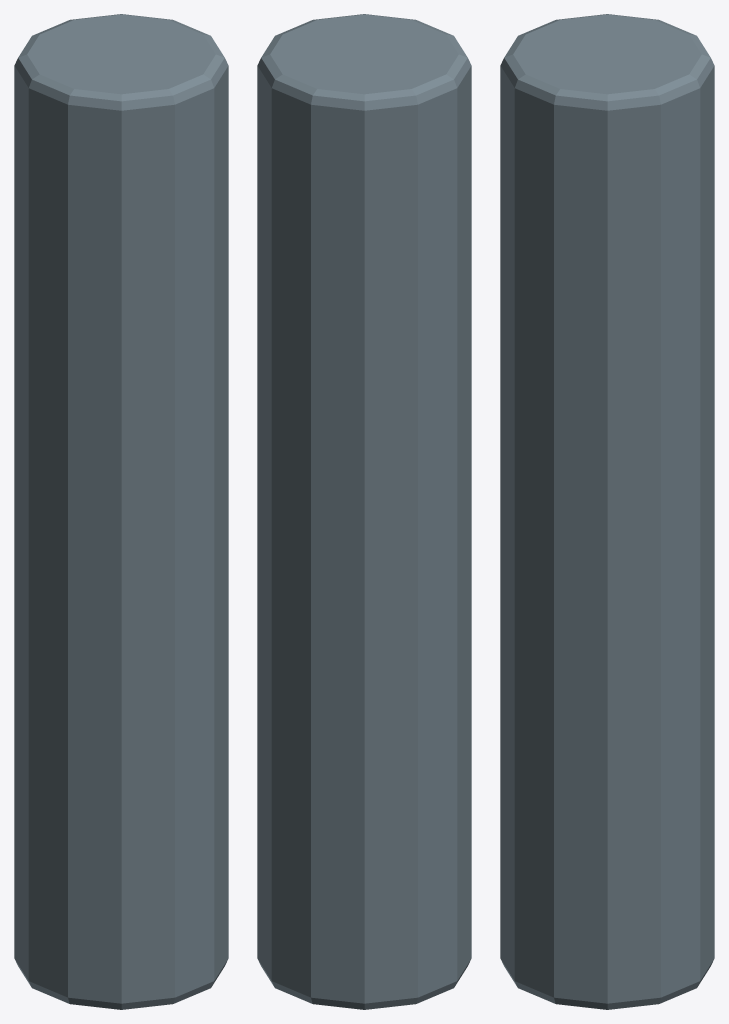
Rendered from SM_Lab_Chair.fbx.
3 views of the same model, side by side, from view 1: azimuth 30°, elevation 25°; view 2: azimuth 150°, elevation 25°; view 3: azimuth 270°, elevation 25° (orthographic).
Visible parts, largest first — view 1: SM_Lab_Chair; view 2: SM_Lab_Chair; view 3: SM_Lab_Chair.
Part boxes in pixels (x1=…): SM_Lab_Chair: x1=14, y1=14, x2=228, y2=1009; SM_Lab_Chair: x1=257, y1=14, x2=471, y2=1009; SM_Lab_Chair: x1=500, y1=14, x2=714, y2=1009.
Size of the model in its own units: 7 by 7 by 33.
